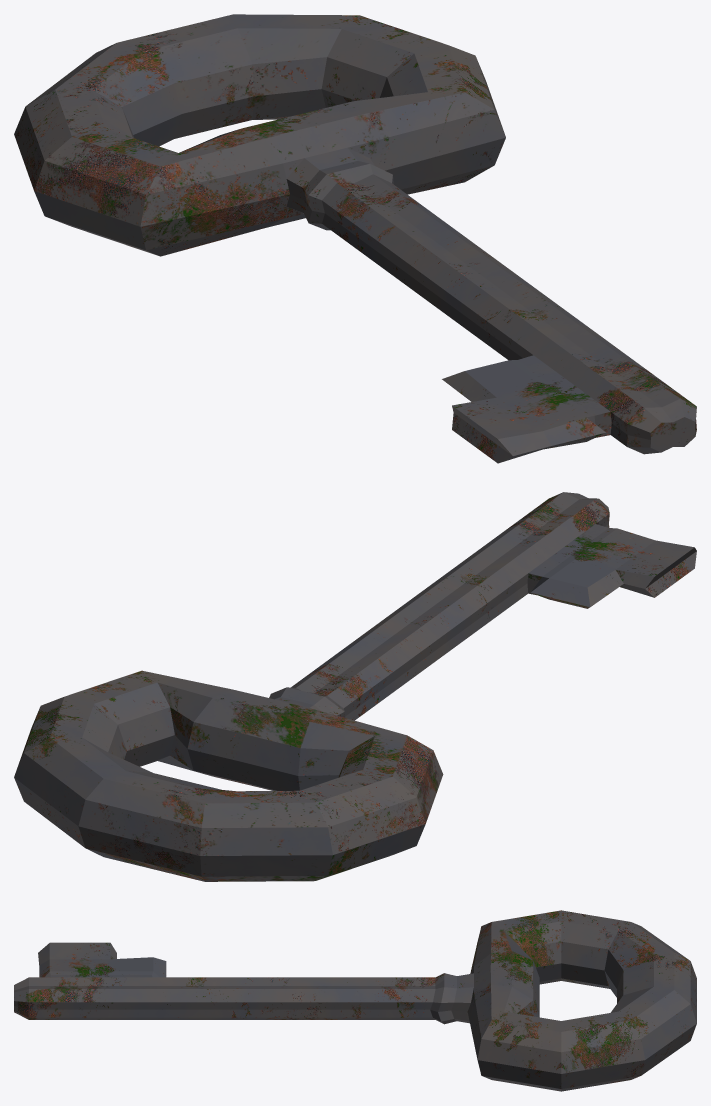
The model's file is key4.fbx.
3 renders of one model, top to bottom at view 1: azimuth 30°, elevation 25°; view 2: azimuth 150°, elevation 25°; view 3: azimuth 270°, elevation 25°, orthographic. The views are drawn at different scales.
Parts seen in each view (by area): view 1: Key; view 2: Key; view 3: Key.
Part boxes in pixels (<box>): Key: <box>14,14,696,463</box>; Key: <box>14,492,696,881</box>; Key: <box>14,910,696,1091</box>.
Size of the model in its own units: 160 by 31.65 by 316.
